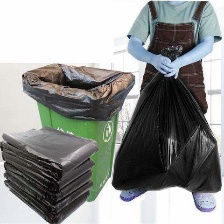plastic_bag: (110, 60, 222, 195), (0, 121, 95, 223), (15, 55, 133, 125)
